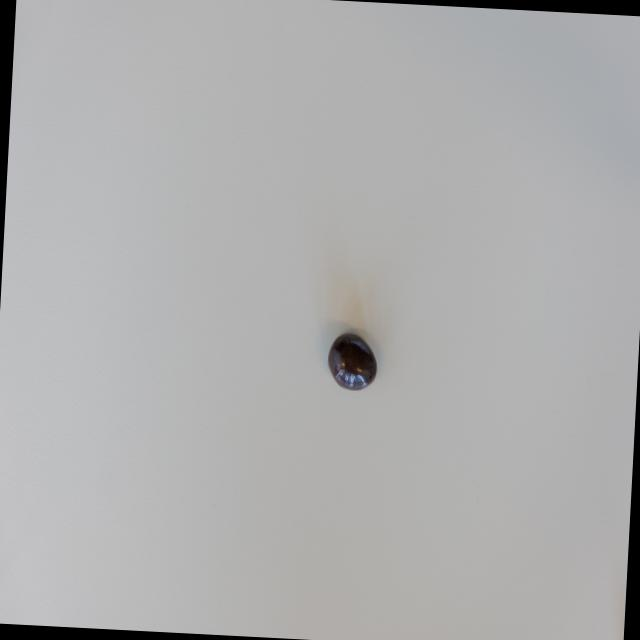Jelly_Black: (327, 332, 379, 394)
